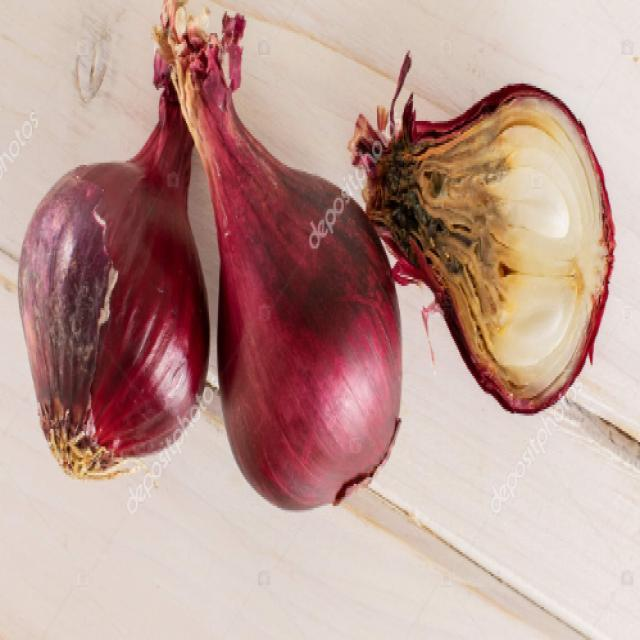rotten: (373, 147, 484, 275), (38, 194, 100, 380)
